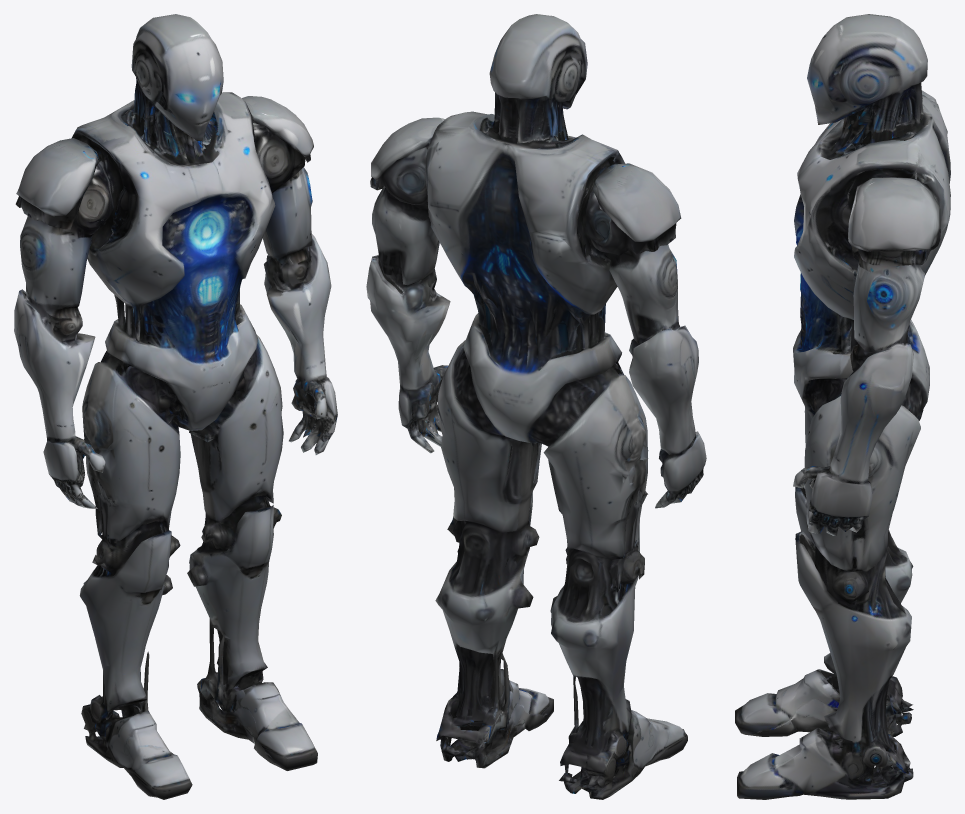
File: AI_Blog_0615040357_texture.glb
The picture shows the model from 3 angles, left to right: view 1: azimuth 30°, elevation 25°; view 2: azimuth 150°, elevation 25°; view 3: azimuth 270°, elevation 25°; orthographic projection. The views are drawn at different scales.
Size of the model in its own units: 0.8733 by 2 by 0.529.
Materials: 1 (1 with a texture image).
